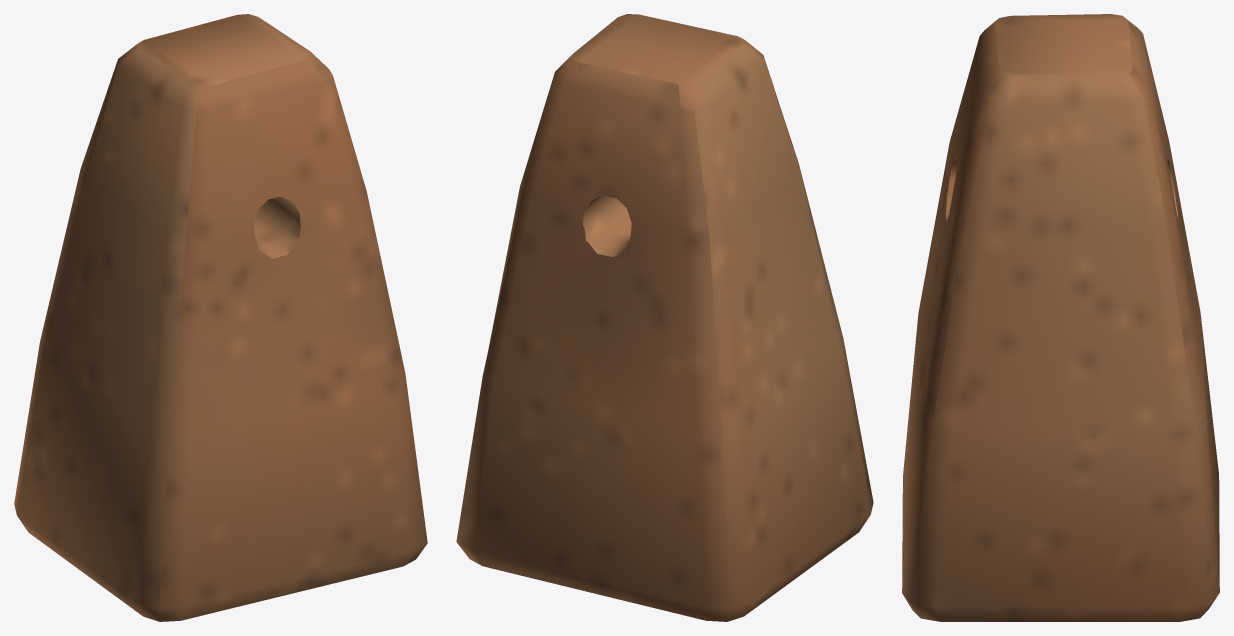
The model's file is loomweight.glb.
The picture shows the model from 3 angles, left to right: view 1: azimuth 30°, elevation 25°; view 2: azimuth 150°, elevation 25°; view 3: azimuth 270°, elevation 25°; orthographic projection. The views are drawn at different scales.
Parts seen in each view (by area): view 1: LOOMWEIGHT; view 2: LOOMWEIGHT; view 3: LOOMWEIGHT.
Part boxes in pixels (bbox=[...]): LOOMWEIGHT: bbox=[14, 14, 427, 621]; LOOMWEIGHT: bbox=[456, 14, 873, 621]; LOOMWEIGHT: bbox=[902, 14, 1219, 621].
Size of the model in its own units: 0.0959 by 0.155 by 0.0875.
1 material, 1 textured.
